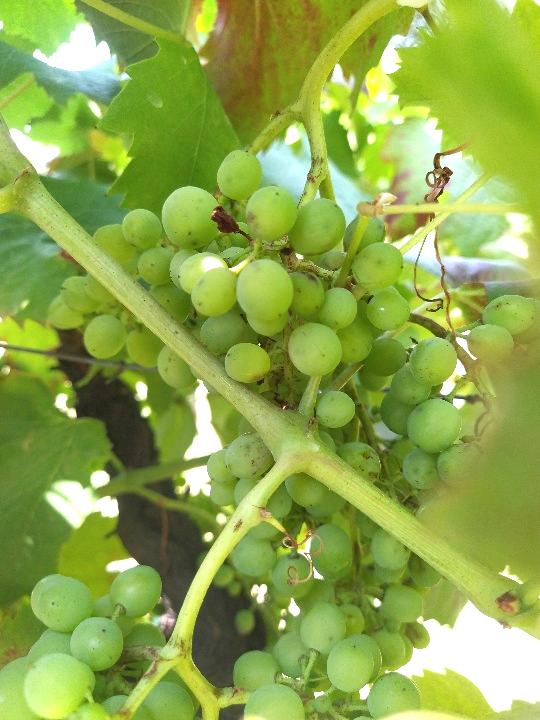grape: (48, 144, 531, 680)
